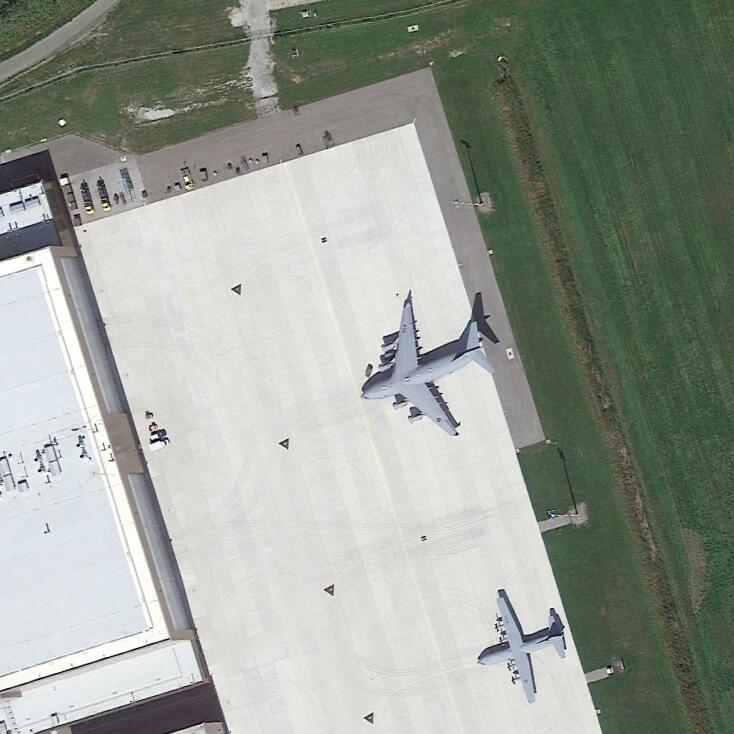A2: (470, 584, 576, 710)
A3: (358, 296, 497, 437)
